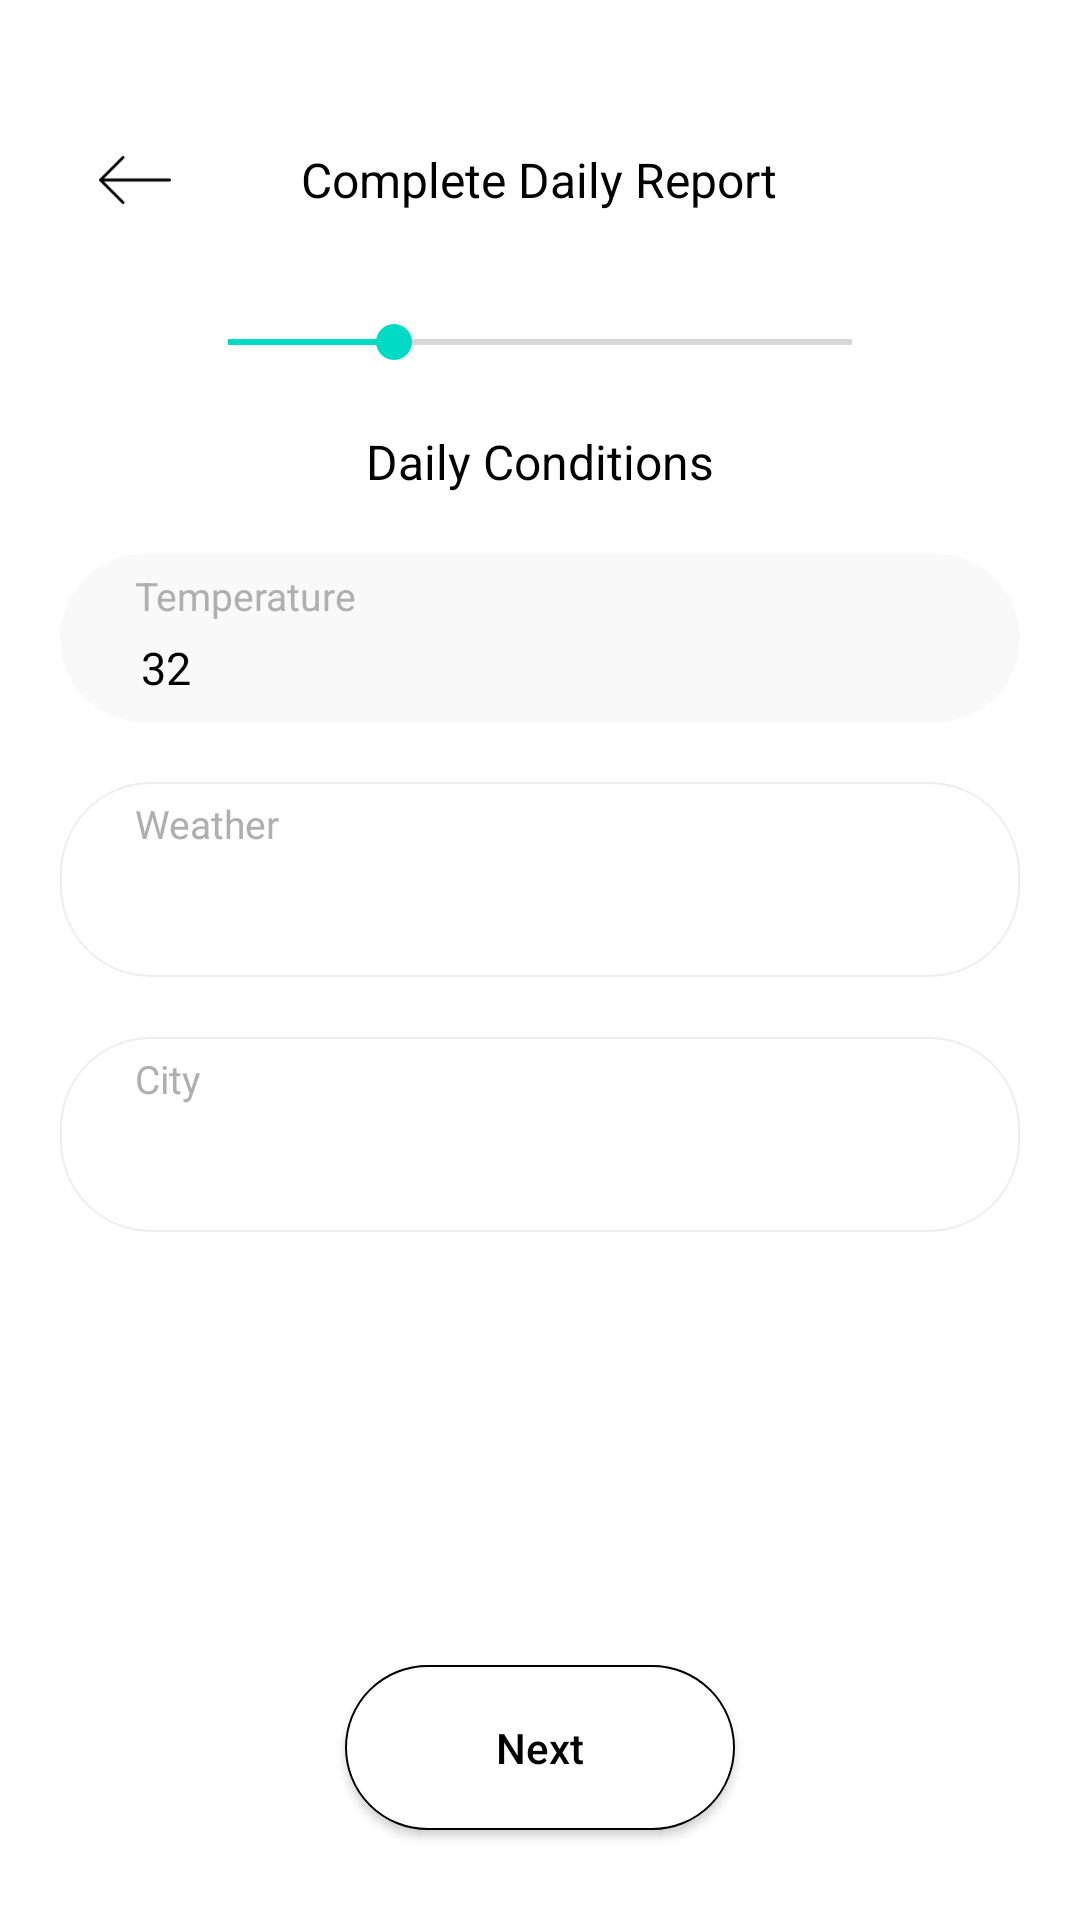

Screen size 1080*1920. Icon name, then its center in pixels as point (x, y):
backarrow: point (135, 180)
